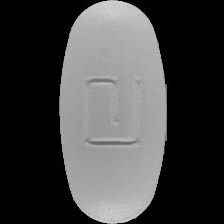55154-6967: (0, 0, 224, 224)
